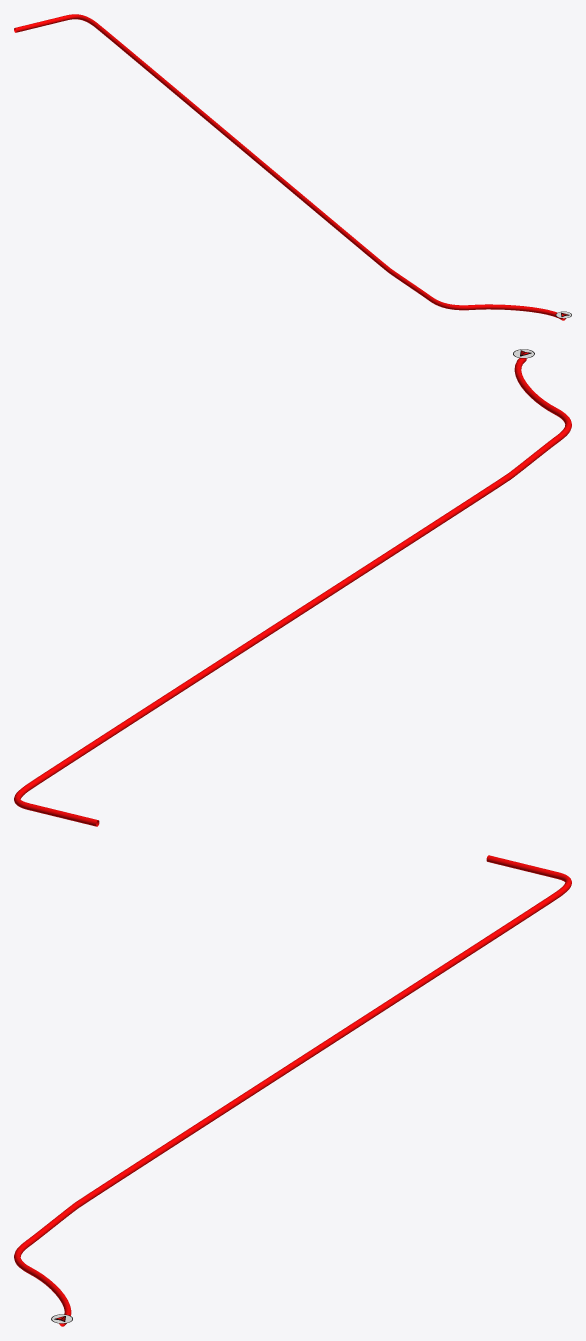
File: route_f0933fa0-5b9e-4874-bd20-646dff92e4ac_de_single.glb
3 views of the same model, one above another, from view 1: azimuth 30°, elevation 25°; view 2: azimuth 150°, elevation 25°; view 3: azimuth 330°, elevation 25° (orthographic). The views are drawn at different scales.
Parts seen in each view (by area): view 1: A8; view 2: A8; view 3: A8.
Part boxes in pixels (bbox=[...]): A8: bbox=[14, 14, 565, 320]; A8: bbox=[14, 358, 571, 826]; A8: bbox=[14, 855, 571, 1326].
Bounding box in the file's own units: 2.26 × 0.1062 × 13.89.
